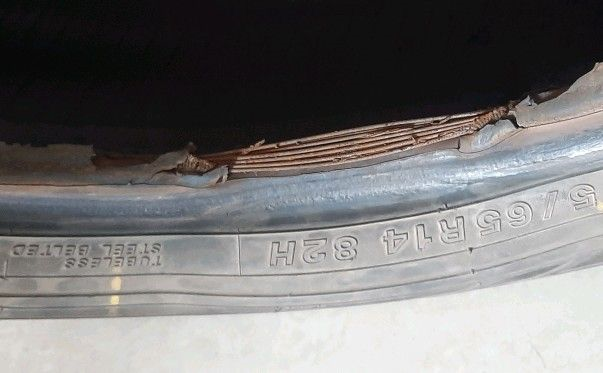bead_damage: (2, 64, 602, 191)
